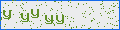y: (30, 8, 41, 19), (44, 13, 54, 25), (55, 13, 65, 25), (20, 13, 30, 23), (3, 10, 12, 19)
